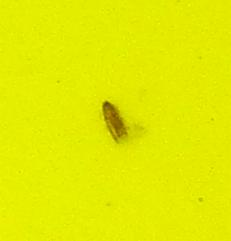Trichoptera: (100, 100, 131, 141)
